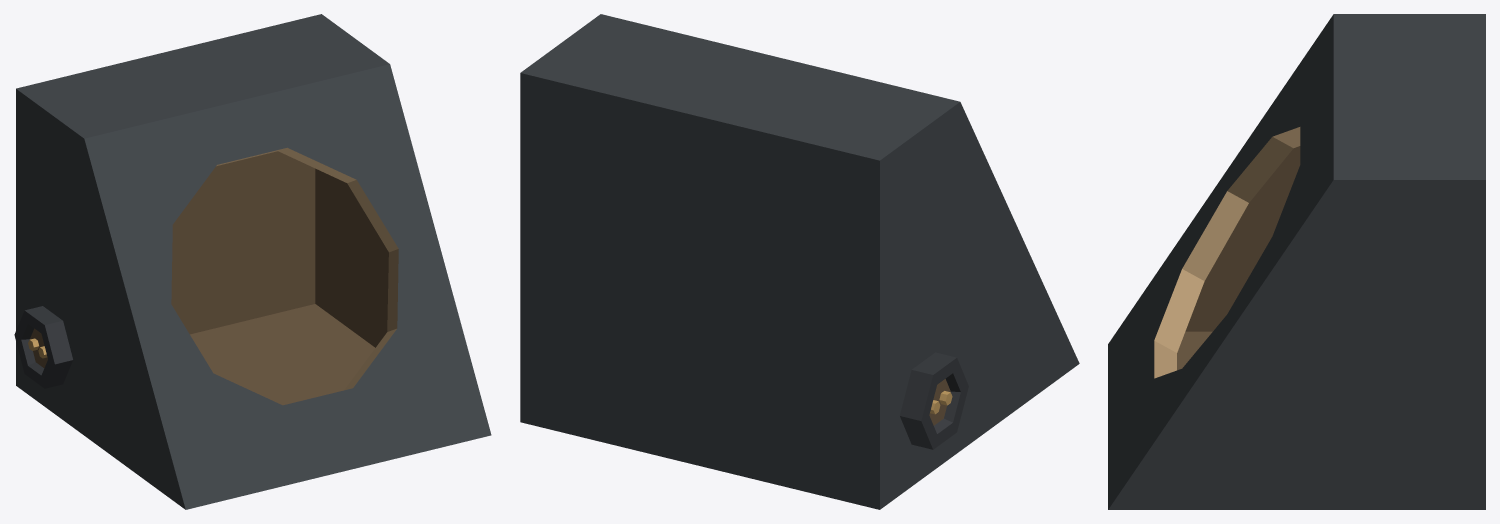
File: SM_Prop_SubBox_SingleSlanted_02.fbx
The picture shows the model from 3 angles, left to right: view 1: azimuth 30°, elevation 25°; view 2: azimuth 150°, elevation 25°; view 3: azimuth 270°, elevation 25°; orthographic projection. The views are drawn at different scales.
Visible parts, largest first — view 1: SM_Prop_SubBox_SingleSlanted_02; view 2: SM_Prop_SubBox_SingleSlanted_02; view 3: SM_Prop_SubBox_SingleSlanted_02.
Part boxes in pixels (x1,y1,x2,y2): SM_Prop_SubBox_SingleSlanted_02: (14,14,491,509); SM_Prop_SubBox_SingleSlanted_02: (520,14,1079,509); SM_Prop_SubBox_SingleSlanted_02: (1108,14,1485,509).
Size of the model in its own units: 78.51 by 68.74 by 71.28.
